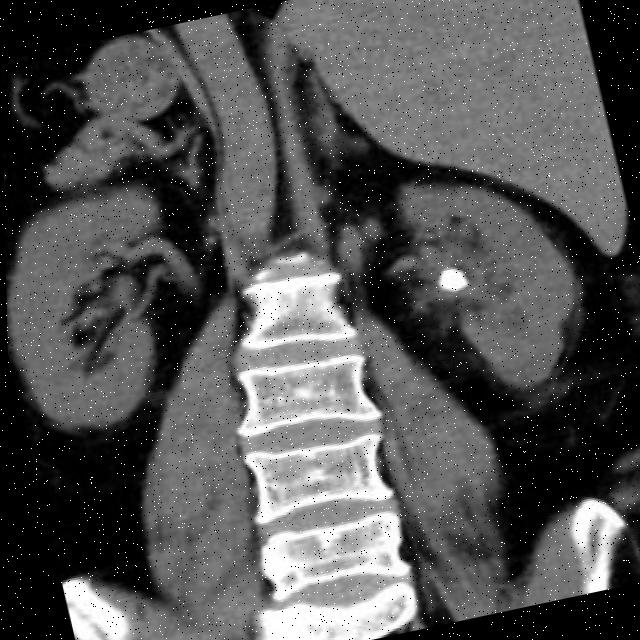Tas_Var: (428, 259, 475, 299)
